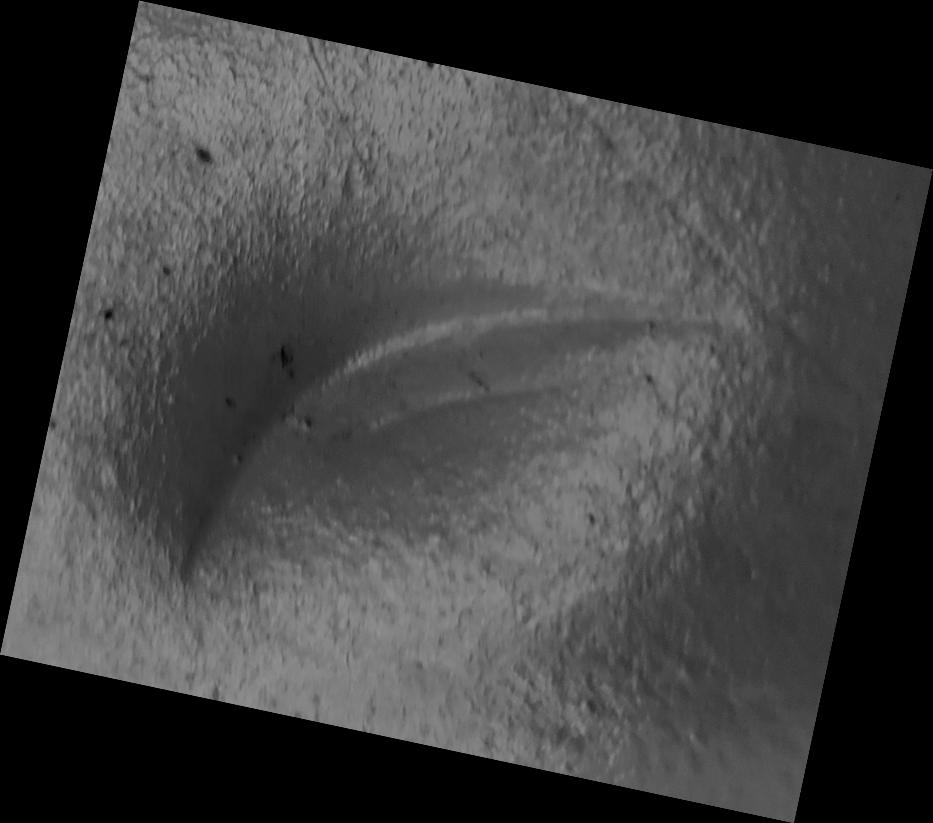dent: (1, 0, 933, 823)
